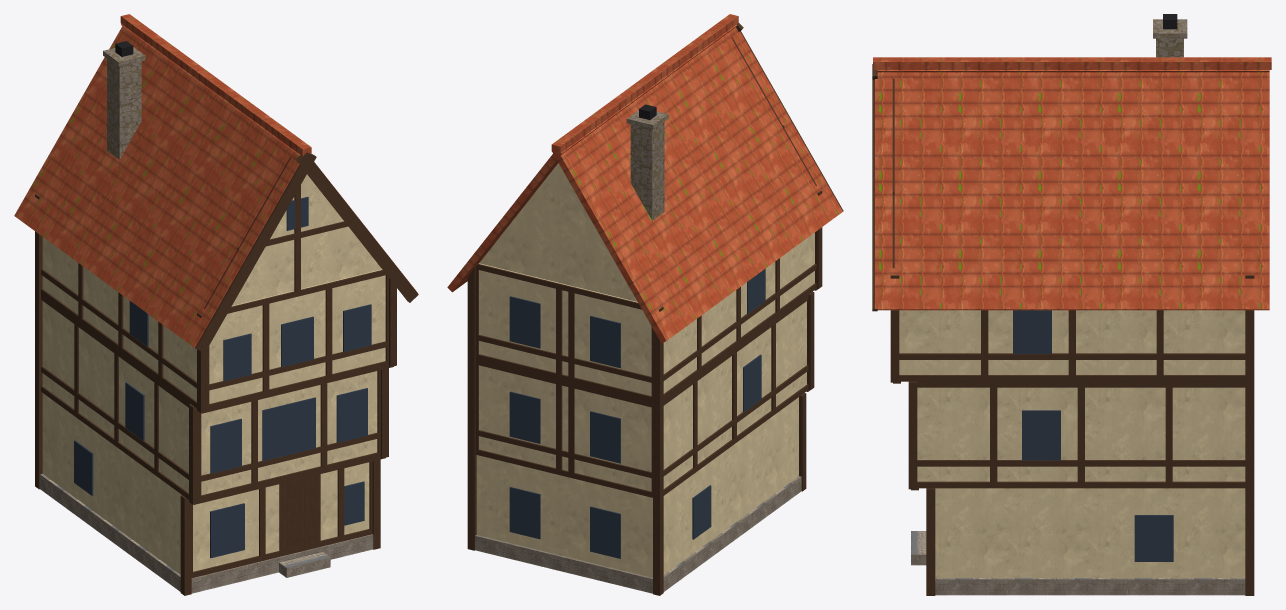
Rendered from tall_house.glb.
The picture shows the model from 3 angles, left to right: view 1: azimuth 30°, elevation 25°; view 2: azimuth 150°, elevation 25°; view 3: azimuth 270°, elevation 25°; orthographic projection. The views are drawn at different scales.
Parts seen in each view (by area): view 1: tall_house; view 2: tall_house; view 3: tall_house.
Boxes of the visible parts, x1,y1,x2,y2 form: tall_house: [14, 14, 418, 595]; tall_house: [447, 14, 843, 595]; tall_house: [872, 14, 1271, 595].
Size of the model in its own units: 7.1 by 13.87 by 10.02.
7 materials, 5 textured.
